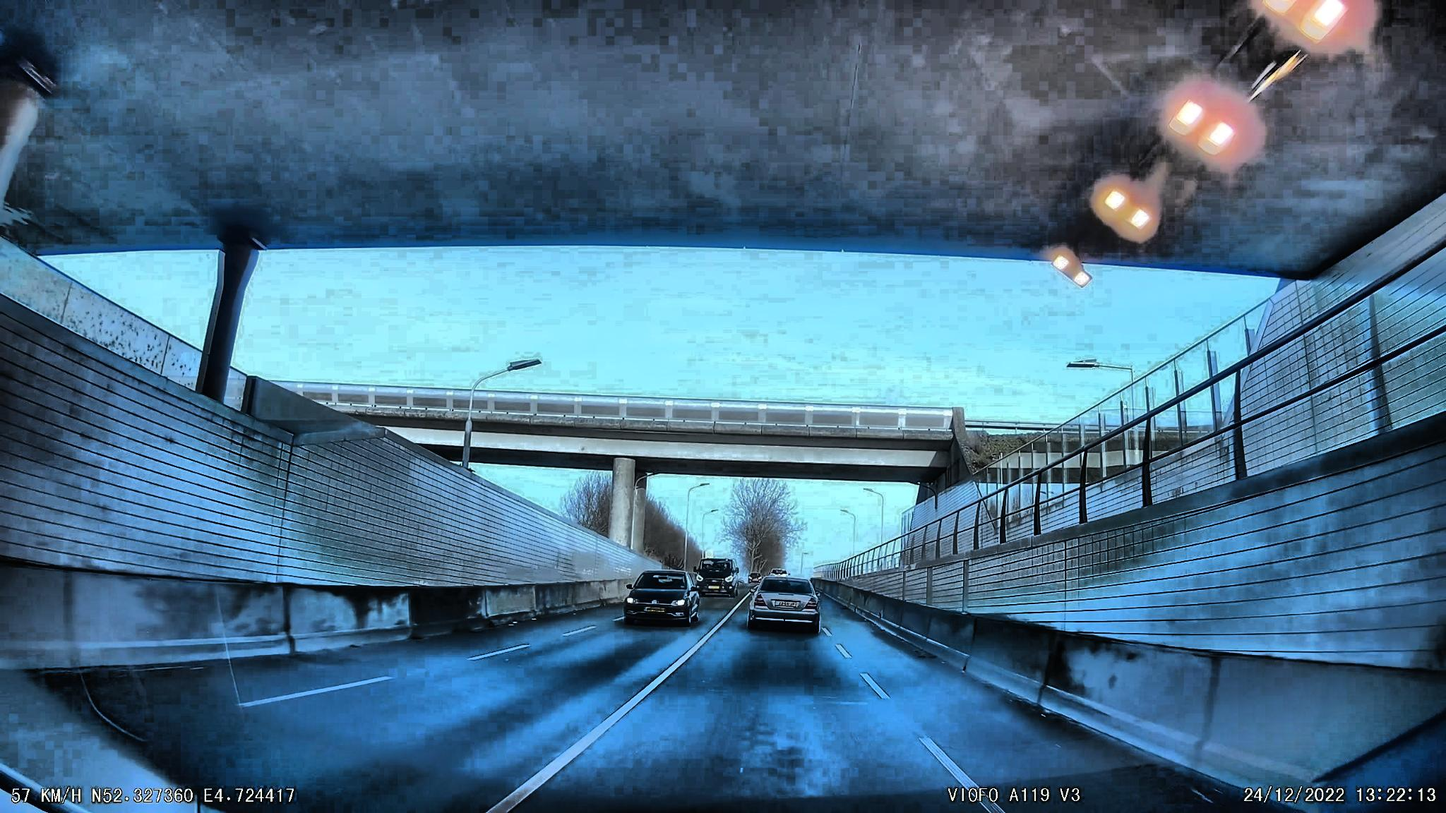Roads: (0, 610, 1287, 813)
